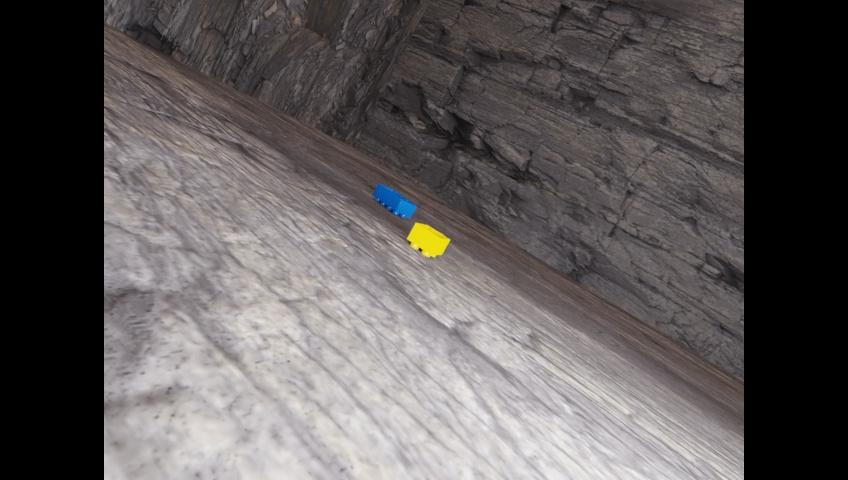2x2_yellow: (407, 222, 449, 256)
4x2_blue: (372, 182, 415, 218)
